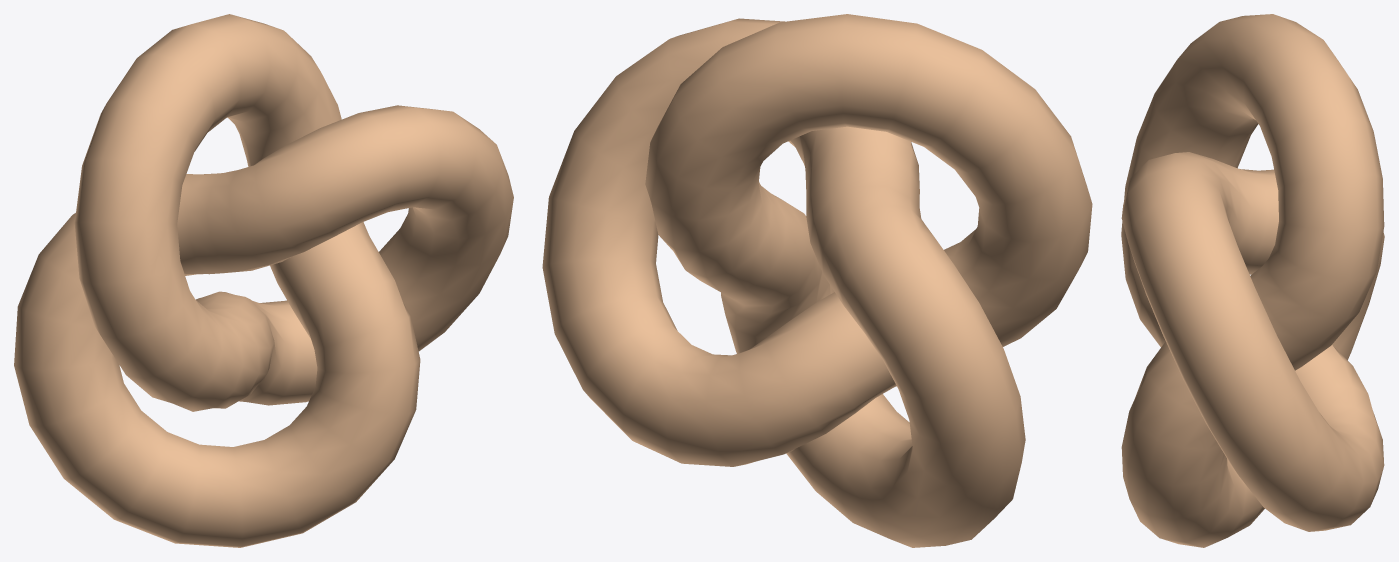
Rendered from knot.glb.
The picture shows the model from 3 angles, left to right: view 1: azimuth 30°, elevation 25°; view 2: azimuth 150°, elevation 25°; view 3: azimuth 270°, elevation 25°; orthographic projection. The views are drawn at different scales.
Size of the model in its own units: 2.01 by 2.09 by 0.9998.
